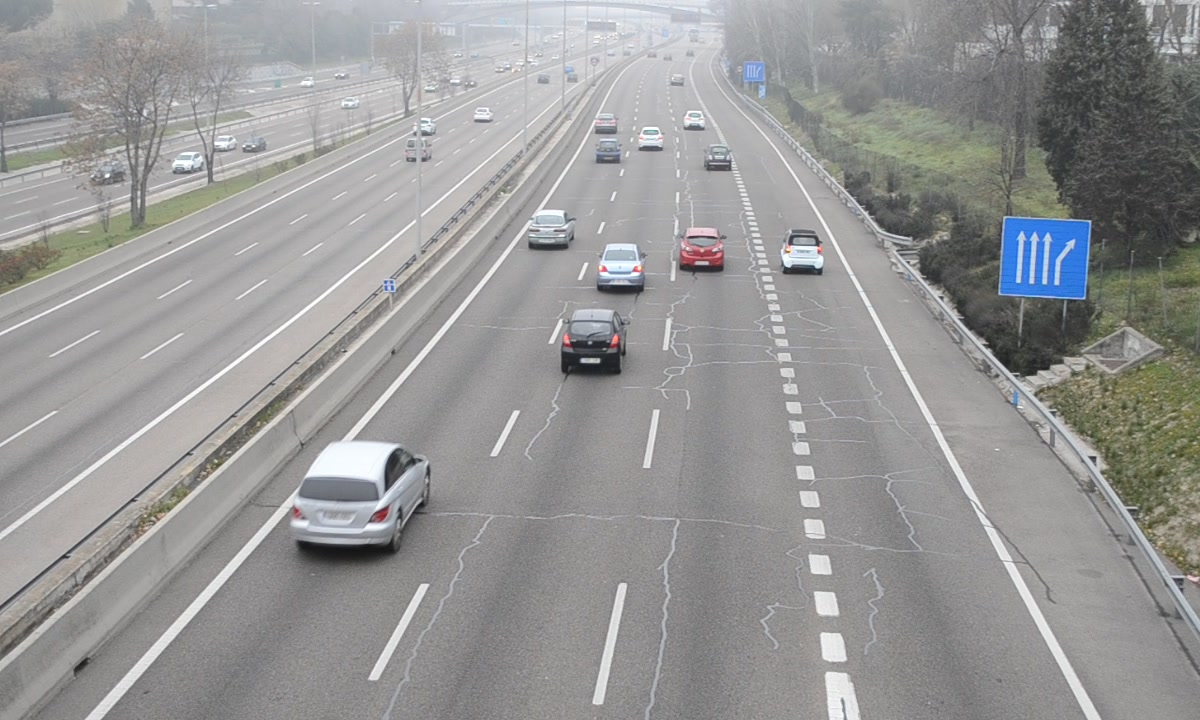car: (287, 442, 428, 549), (561, 308, 626, 371), (596, 244, 647, 297), (781, 230, 826, 277), (679, 228, 725, 273), (527, 210, 576, 251), (594, 138, 624, 166), (636, 125, 665, 153), (704, 144, 734, 171), (593, 112, 619, 135), (682, 110, 707, 132)
